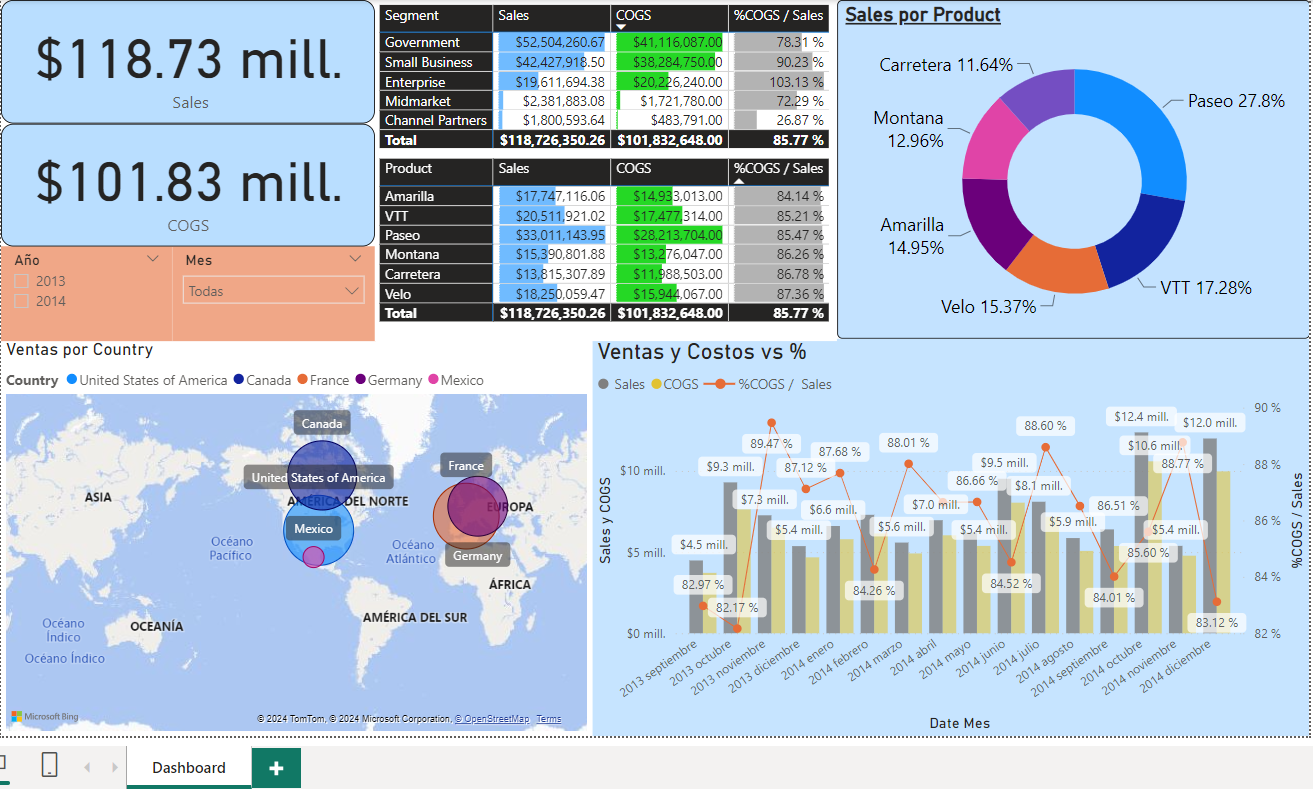

The page's visual inventory and layout, read from the dashboard file:
{"tool":"powerbi","page":{"name":"Página 2","canvas":[1280,720],"ordinal":1},"visuals":[{"type":"donutChart","fields":{"Category":["financials.Product"],"Y":["Sum(financials. Sales)"]},"box":[817.8,0,462.1,331.3],"z":0},{"type":"pivotTable","fields":{"Rows":["financials.Segment"],"Values":["Sum(financials. Sales)","Sum(financials.COGS)","financials.%COGS /  Sales"]},"box":[365.5,0,452.3,166.2],"z":1000},{"type":"lineClusteredColumnComboChart","title":"Ventas y Costos vs %","fields":{"Y":["Sum(financials. Sales)","Sum(financials.COGS)"],"Y2":["financials.%COGS /  Sales"],"Category":["financials.Date.Variación.Jerarquía de fechas.Año","financials.Date.Variación.Jerarquía de fechas.Mes"]},"box":[578.2,331.3,701.7,388.7],"z":2000},{"type":"map","title":"Ventas por Country","fields":{"Category":["financials.Country"],"Series":["financials.Country"],"Size":["Sum(financials. Sales)"]},"box":[0,331.3,578.2,388.7],"z":3000},{"type":"slicer","fields":{"Values":["financials.Date.Variación.Jerarquía de fechas.Año"]},"box":[0,240.8,167.5,92.9],"z":4000},{"type":"slicer","fields":{"Values":["financials.Date.Variación.Jerarquía de fechas.Mes"]},"box":[167.5,240.8,198,92.9],"z":5000},{"type":"pivotTable","fields":{"Values":["Sum(financials. Sales)","Sum(financials.COGS)","financials.%COGS /  Sales"],"Rows":["financials.Product"]},"box":[365.5,150.4,452.3,183.4],"z":6000},{"type":"card","fields":{"Values":["Sum(financials. Sales)"]},"box":[0,0,365.5,121],"z":7000},{"type":"card","fields":{"Values":["Sum(financials.COGS)"]},"box":[0,121,365.5,119.8],"z":8000}]}

Visuals, with their boxes on the page's 1280x720 design canvas (x1, y1, x2, y2). These are canvas units, not pixel positions in the 1313x789 screenshot, which may show the page scaled, cropped or inside an application window:
donutChart - financials.Product x Sum(financials. Sales): [left=818, top=0, right=1280, bottom=331]
pivotTable - financials.Segment x Sum(financials. Sales): [left=366, top=0, right=818, bottom=166]
"Ventas y Costos vs %" lineClusteredColumnComboChart: [left=578, top=331, right=1280, bottom=720]
"Ventas por Country" map: [left=0, top=331, right=578, bottom=720]
slicer - financials.Date.Variación.Jerarquía de fechas.Año: [left=0, top=241, right=168, bottom=334]
slicer - financials.Date.Variación.Jerarquía de fechas.Mes: [left=168, top=241, right=366, bottom=334]
pivotTable - Sum(financials. Sales) x Sum(financials.COGS): [left=366, top=150, right=818, bottom=334]
card - Sum(financials. Sales): [left=0, top=0, right=366, bottom=121]
card - Sum(financials.COGS): [left=0, top=121, right=366, bottom=241]
